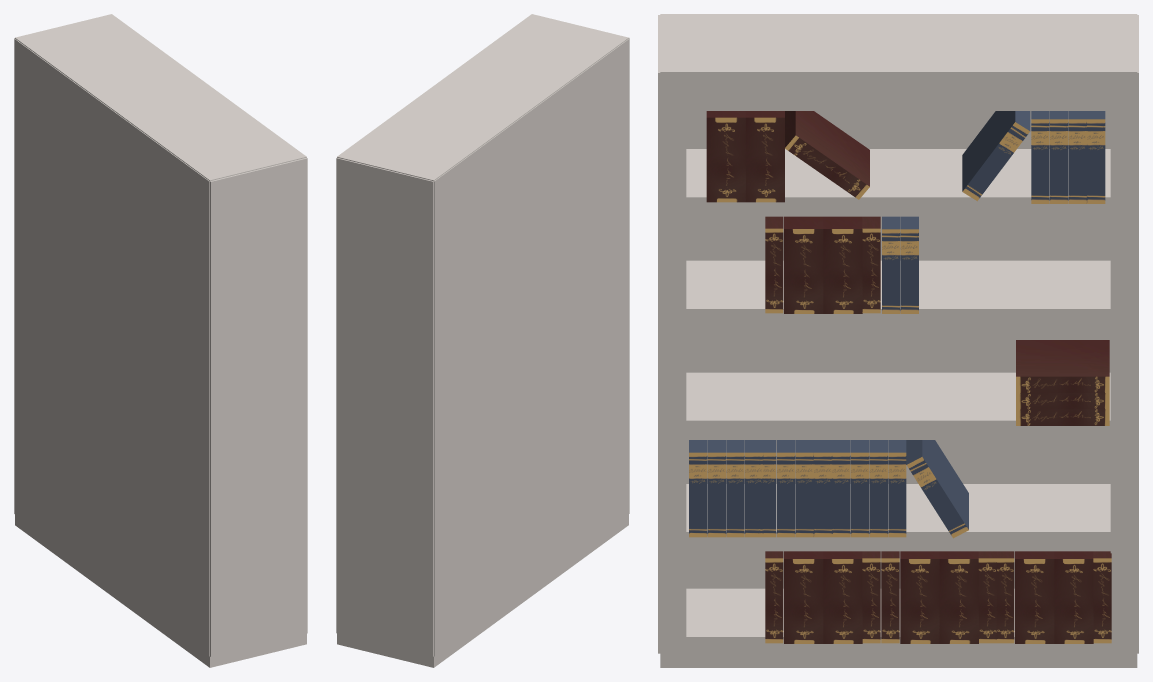
The model's file is bookshelf.fbx.
3 renders of one model, left to right at view 1: azimuth 30°, elevation 25°; view 2: azimuth 150°, elevation 25°; view 3: azimuth 270°, elevation 25°, orthographic. The views are drawn at different scales.
Visible parts, largest first — view 1: shelfBack, shelfSide2, shelfTop, shelfBottom; view 2: shelfBack, shelfSide1, shelfTop, shelfBottom; view 3: shelfTop, shelfBack, shelf3, shelf2, shelf1, shelf4, shelfSide2, shelfBottom, shelfSide1, pCube22, pCube14, pCube17 (+39 smaller).
Boxes of the visible parts, <box> form: shelfBack: <box>14,38,209,656</box>; shelfSide2: <box>210,157,307,656</box>; shelfTop: <box>15,14,306,180</box>; shelfBottom: <box>15,514,306,667</box>; shelfBack: <box>434,38,629,656</box>; shelfSide1: <box>336,157,433,656</box>; shelfTop: <box>337,14,628,181</box>; shelfBottom: <box>337,514,628,667</box>; shelfTop: <box>660,14,1137,110</box>; shelfBack: <box>686,111,1110,588</box>; shelf3: <box>660,372,1137,439</box>; shelf2: <box>660,260,1137,327</box>; shelf1: <box>660,149,1137,216</box>; shelf4: <box>660,484,1137,551</box>; shelfSide2: <box>658,15,686,653</box>; shelfBottom: <box>660,588,1137,667</box>; shelfSide1: <box>1110,15,1138,653</box>; pCube22: <box>1016,340,1109,392</box>; pCube14: <box>785,111,869,199</box>; pCube17: <box>784,216,823,313</box>.
Size of the model in its own units: 1.51 by 6.6 by 4.83.
Materials: 3 (2 with a texture image).
